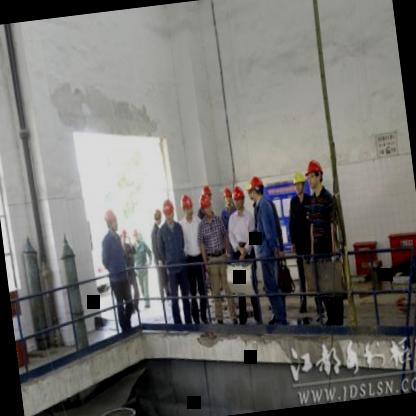helmet: (304, 154, 326, 196), (245, 171, 267, 208), (100, 204, 120, 236), (288, 166, 306, 198), (196, 192, 215, 222), (160, 197, 178, 228), (178, 192, 194, 221), (232, 181, 246, 211), (220, 184, 235, 208), (151, 206, 164, 226)
